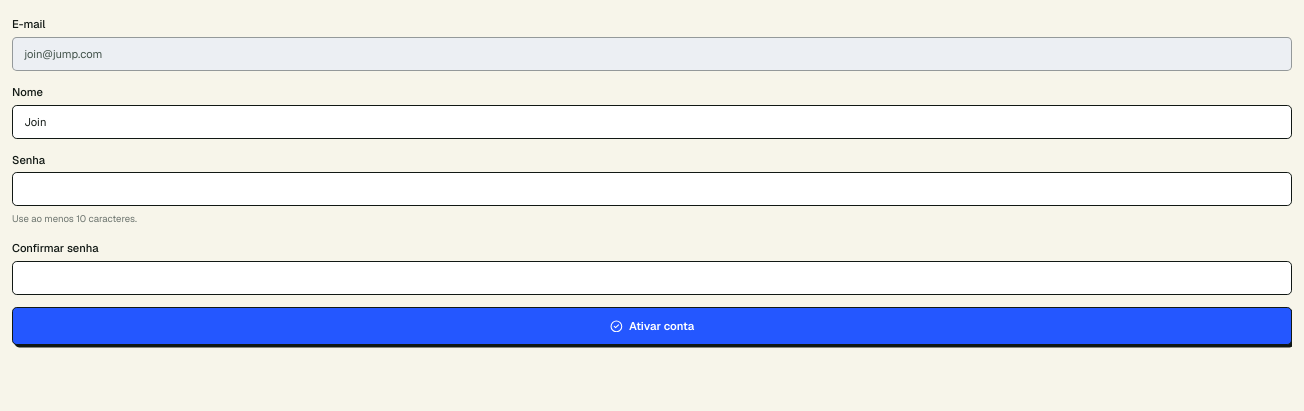
Test: AcceptInviteForm — client guards › does not submit when the password is shorter than 10 chars
This screenshot has width=1304, height=411.
Step 1. Type "short" into the password field labelled "Senha" → [652, 189], box [12,172,1292,206]
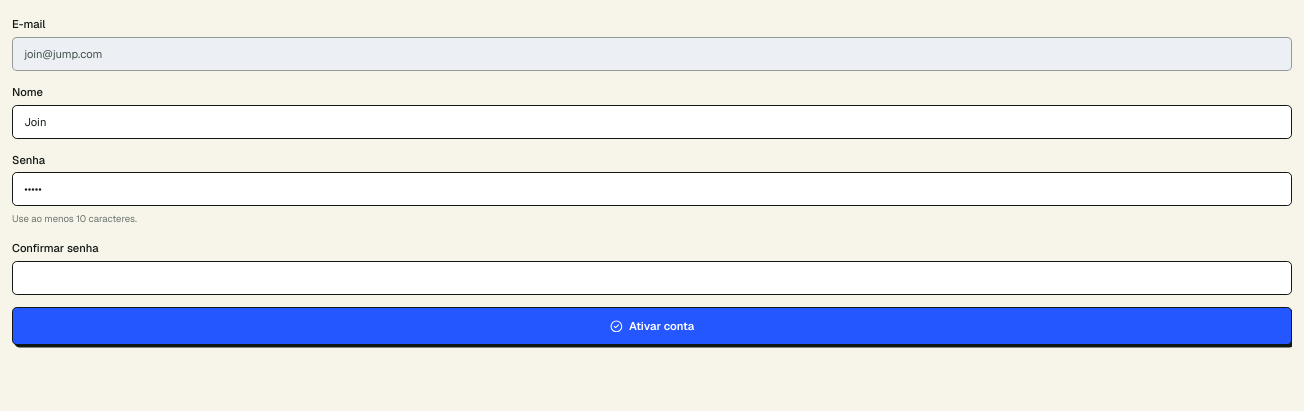
Step 2. Type "short" into the password field labelled "Confirmar senha" → [652, 278], box [12,261,1292,295]
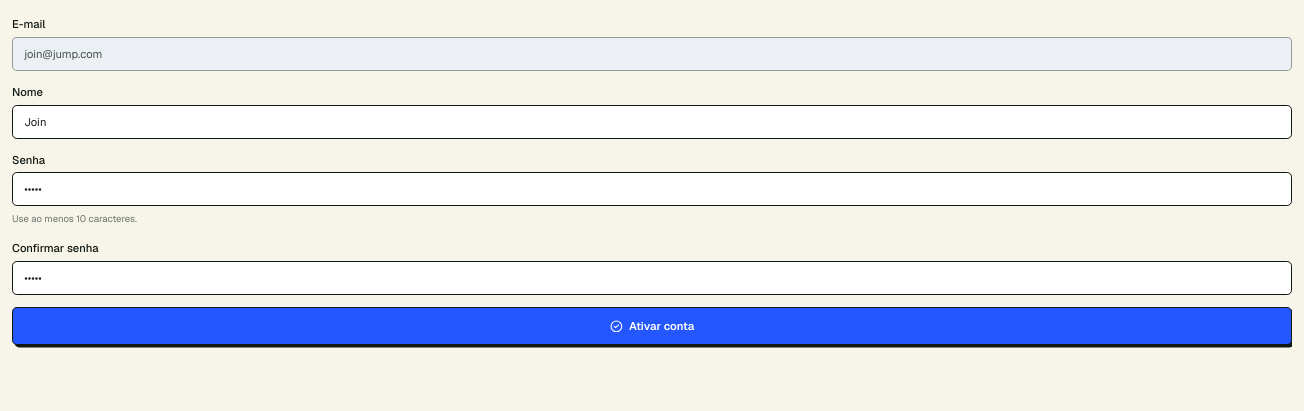
Step 3. Submit the form "Ativar conta"
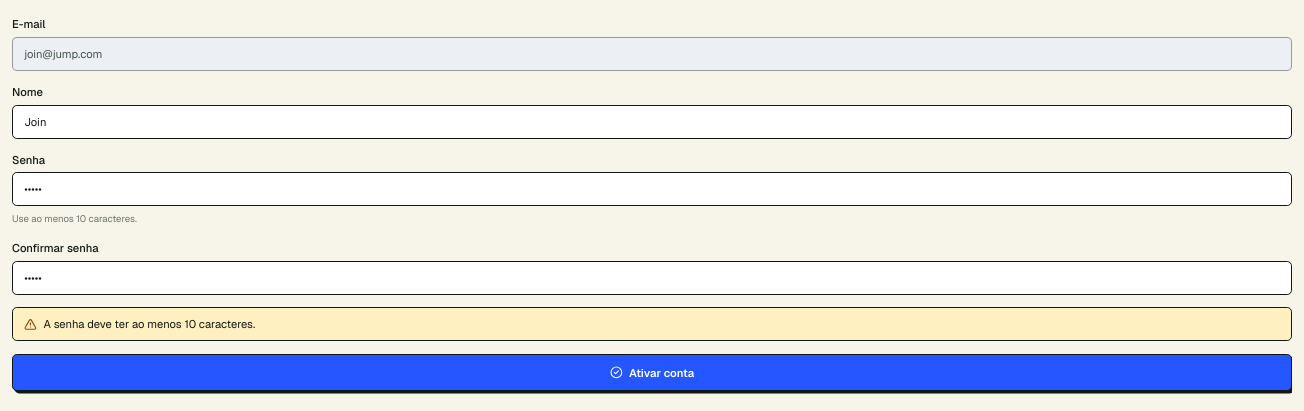
Expected: the message shows "ao menos 10", [43,317,255,331]
